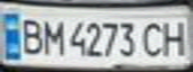2: (84, 17, 103, 57)
3: (118, 19, 142, 58)
4: (66, 16, 87, 57)
7: (100, 18, 121, 58)
B: (15, 13, 45, 55)
C: (139, 18, 169, 58)
H: (157, 17, 193, 57)
M: (39, 16, 66, 56)
